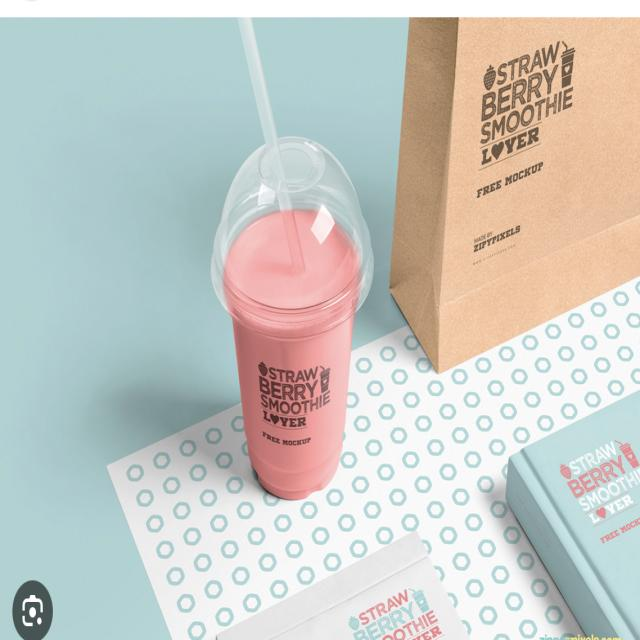recyclable: (182, 17, 392, 528)
